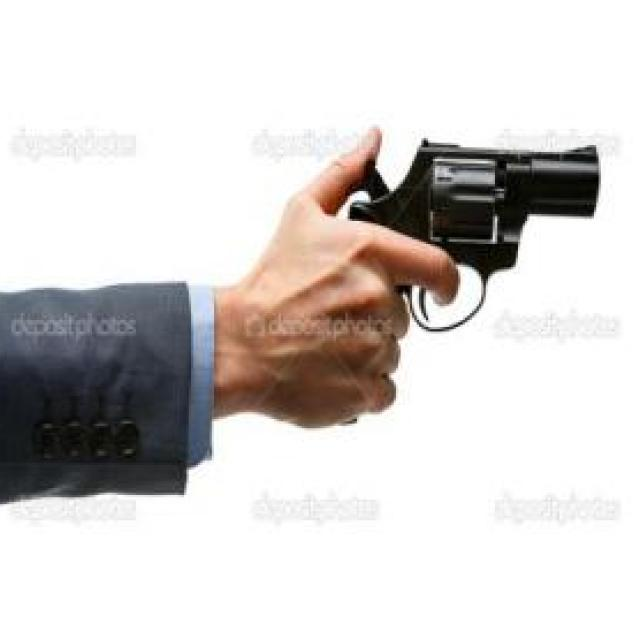pistol: (327, 104, 608, 419)
